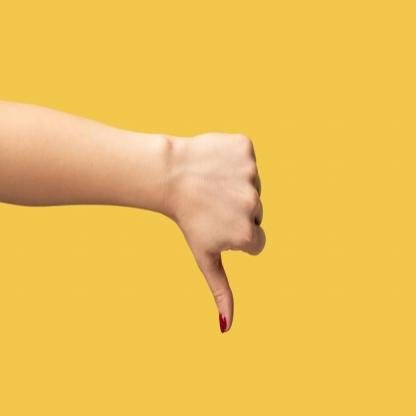thumb_down: (172, 127, 268, 338)
